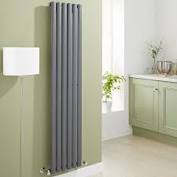Radiator: (44, 1, 88, 174)
